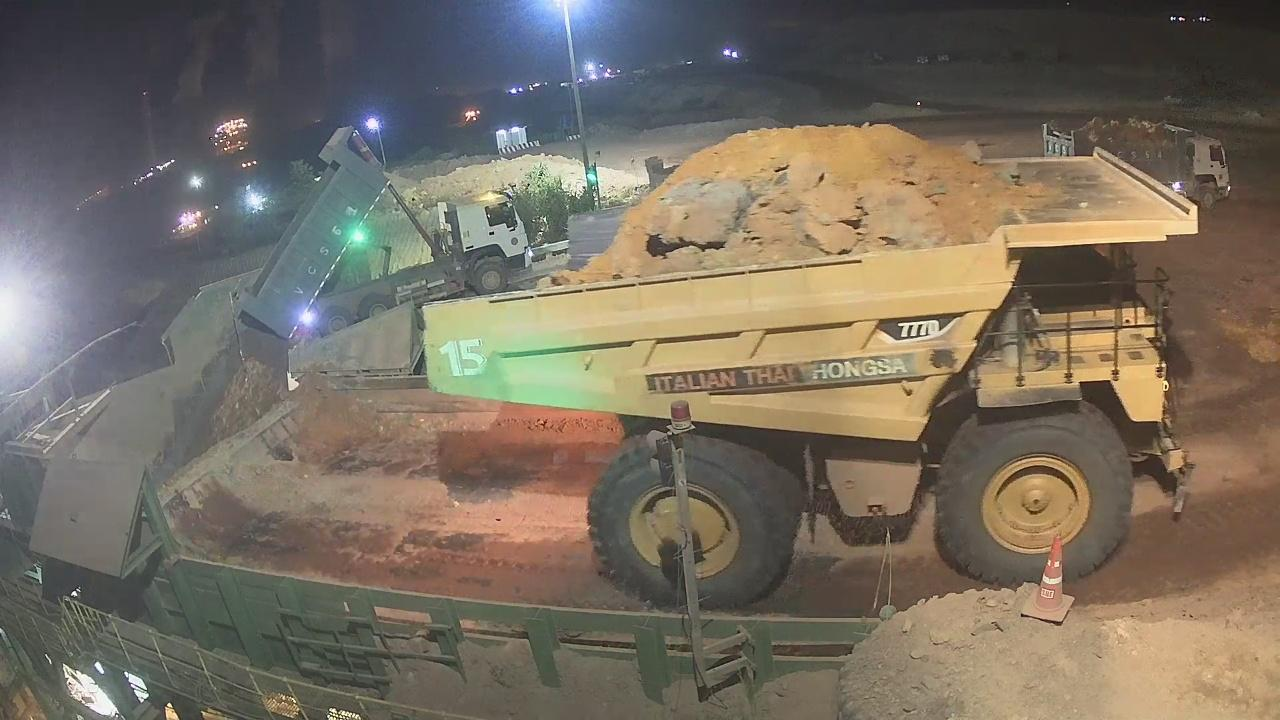company: (641, 350, 933, 398)
full_load: (542, 88, 1026, 269)
mining_truck: (411, 81, 1208, 612)
tail_number: (438, 339, 492, 382)
truck_size: (868, 304, 973, 344)
